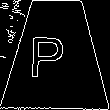P_N: (37, 29, 75, 80)
